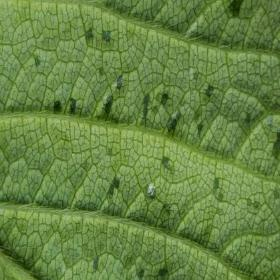Angular Leafspot: (27, 0, 279, 279)
